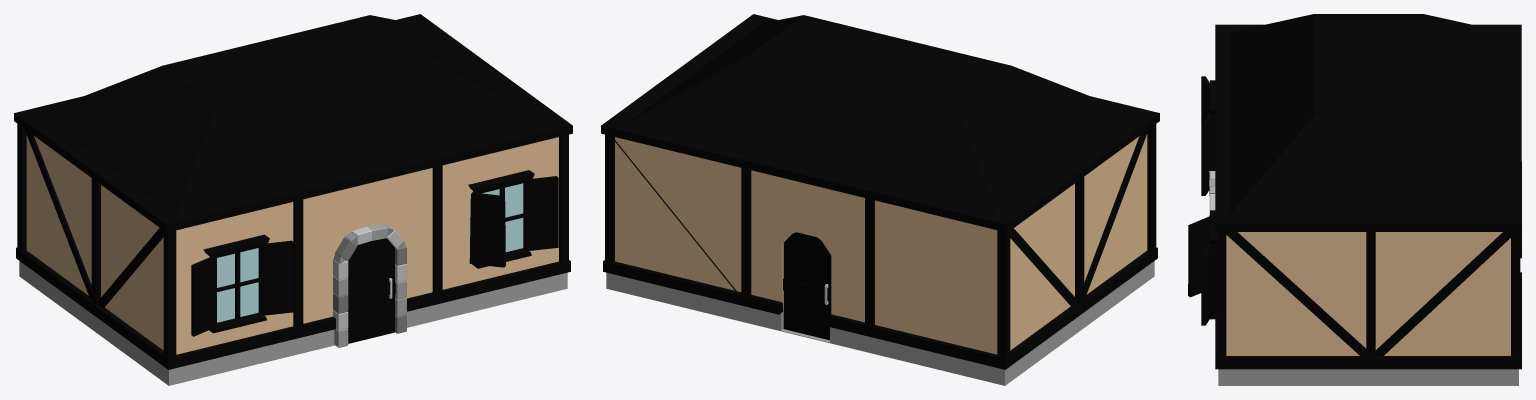
File: Building 2.fbx
3 renders of one model, left to right at view 1: azimuth 30°, elevation 25°; view 2: azimuth 150°, elevation 25°; view 3: azimuth 270°, elevation 25°, orthographic.
Parts seen in each view (by area): view 1: Cube.028, Cube.005, Cube.042, Cube.016, Cube.018; view 2: Cube.028, Cube.005, Cube.021; view 3: Cube.028, Cube.005, Cube.018, Cube.042.
Part boxes in pixels (x1=…): Cube.028: x1=19, y1=15, x2=567, y2=385; Cube.005: x1=14, y1=14, x2=572, y2=369; Cube.042: x1=191, y1=234, x2=293, y2=336; Cube.016: x1=333, y1=224, x2=406, y2=347; Cube.018: x1=468, y1=170, x2=558, y2=268; Cube.028: x1=606, y1=15, x2=1154, y2=385; Cube.005: x1=601, y1=14, x2=1159, y2=369; Cube.021: x1=783, y1=232, x2=831, y2=340; Cube.028: x1=1218, y1=14, x2=1518, y2=385; Cube.005: x1=1215, y1=24, x2=1521, y2=369; Cube.018: x1=1188, y1=210, x2=1216, y2=325; Cube.042: x1=1201, y1=76, x2=1215, y2=195.
Size of the model in its own units: 1278 by 668 by 905.
